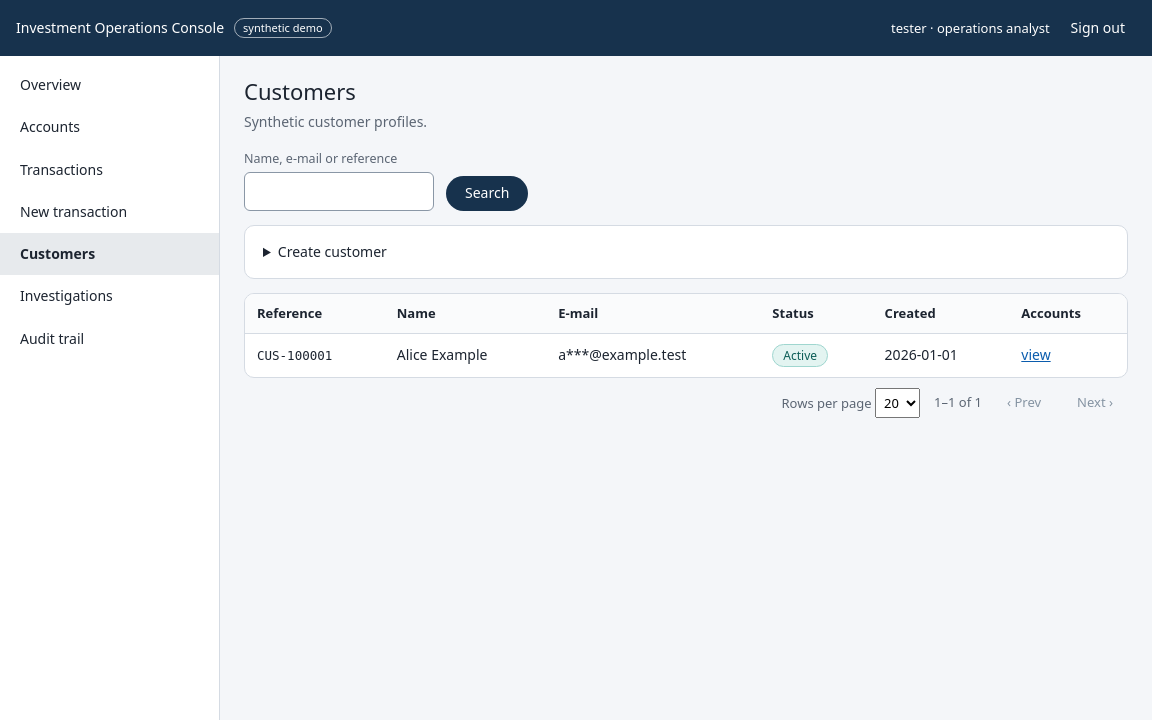
Customers and audit › operators can create a customer and the list reloads
Check: the text "CUS-100001" is shown, box [257,348,332,363]
Step 1. Click the heading "Create customer" → (332, 251), box [278,242,387,261]
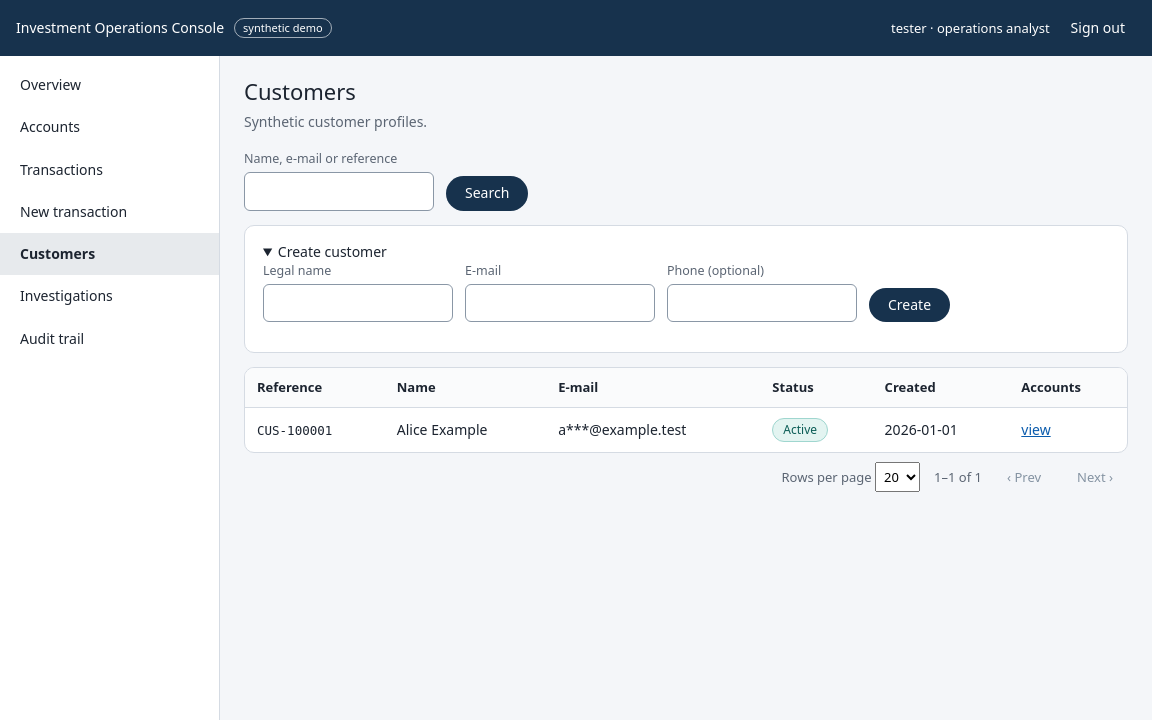
Step 2. Type "New Person" into the field labelled "Legal name" → (358, 303), box [263,284,453,322]
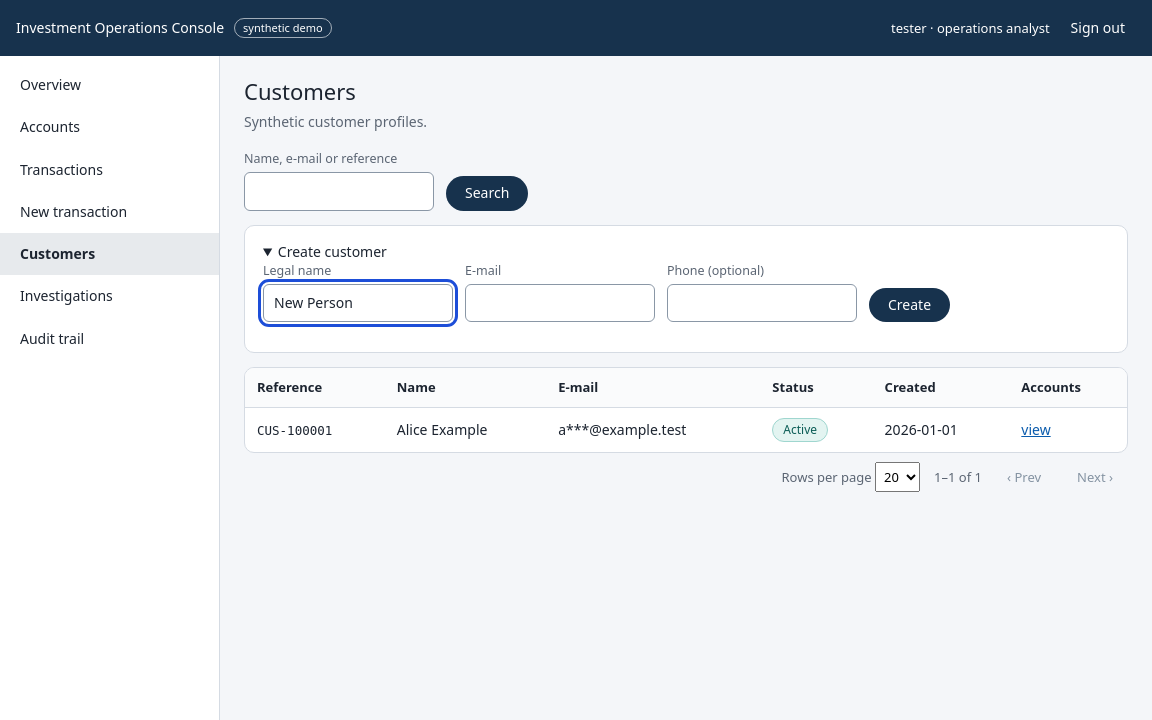
Step 3. Type "not-an-email" into the field labelled "E-mail" → (560, 303), box [465,284,655,322]
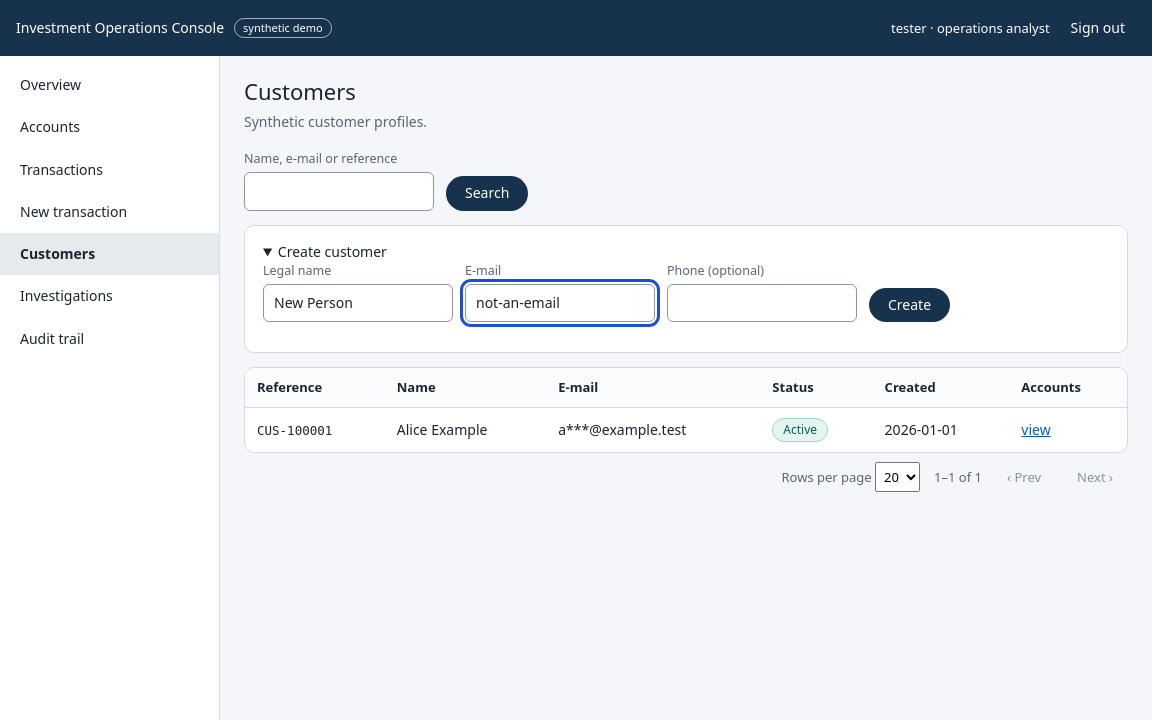
Step 4. Click the button "Create" → (910, 305), box [869,288,950,322]
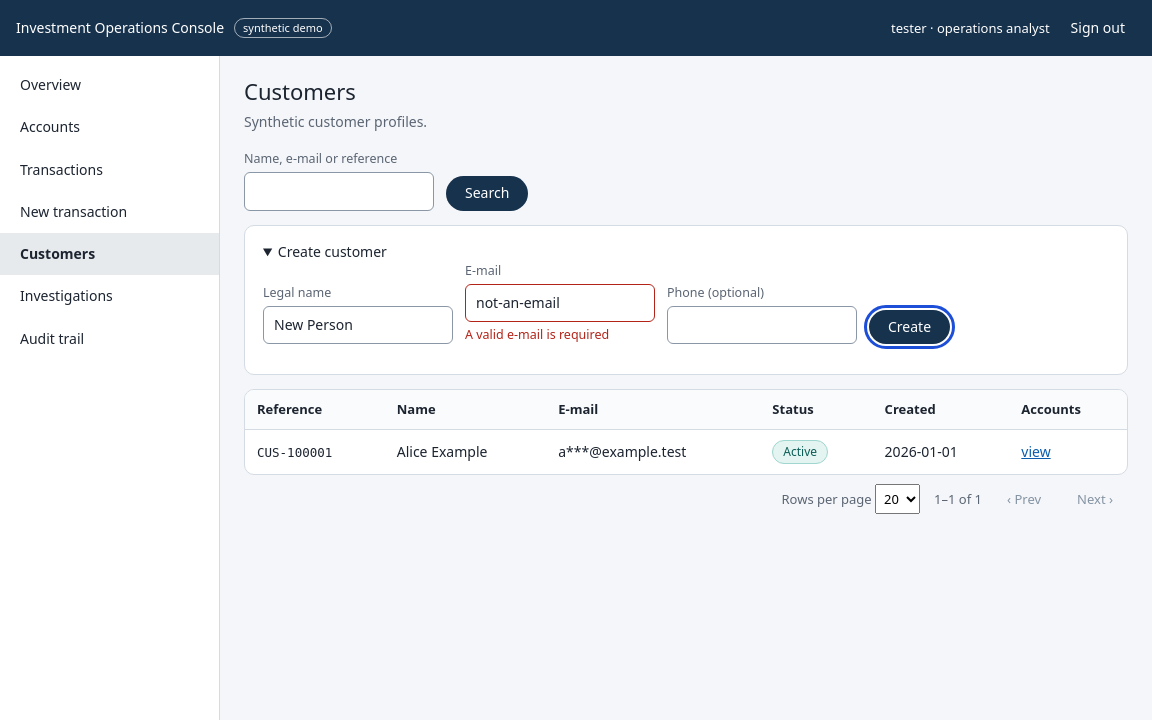
Check: the text "A valid e-mail is required" is shown, box [465,326,609,343]
Step 5. Replace the text in the field labelled "E-mail" with "new@example.test" → (560, 303), box [465,284,655,322]
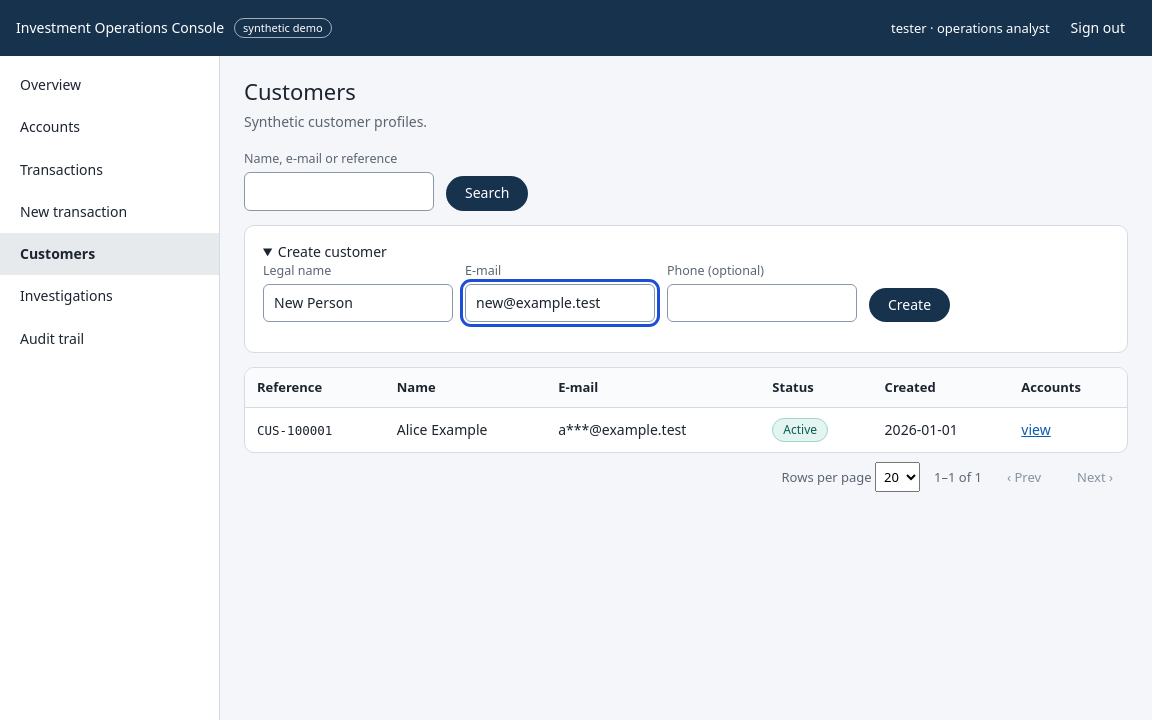
Step 6. Click the button "Create" → (910, 305), box [869,288,950,322]
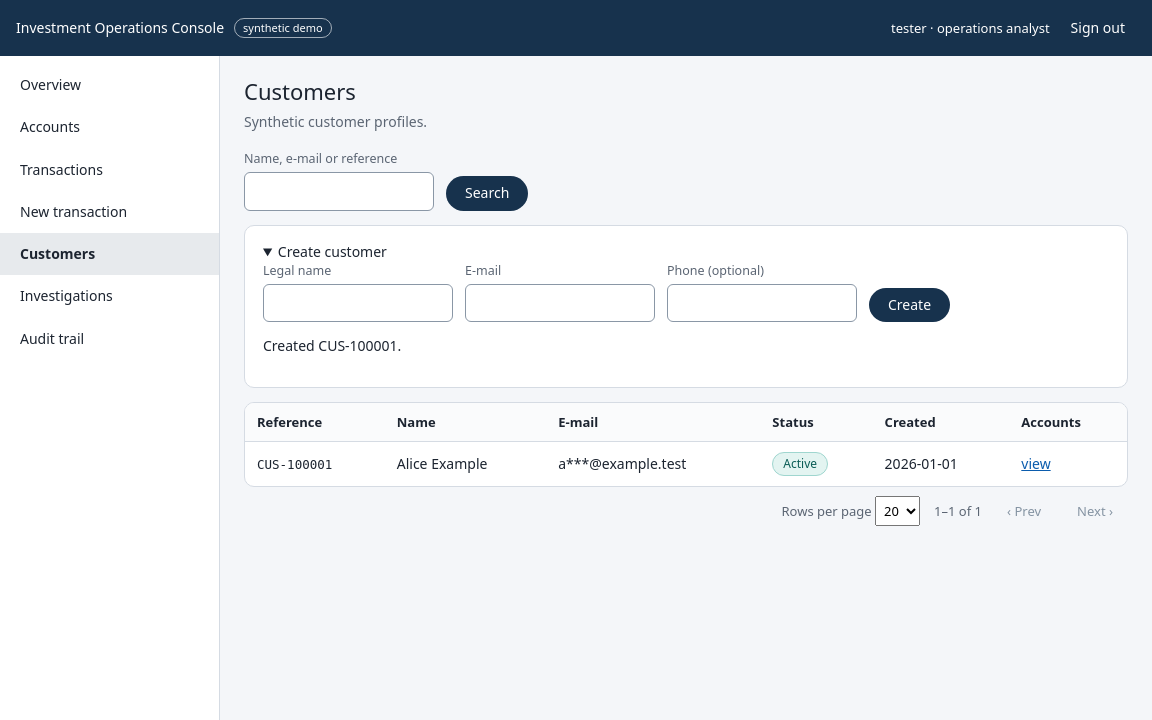
Check: the text "Created CUS-100001." is shown, box [263,336,401,355]
